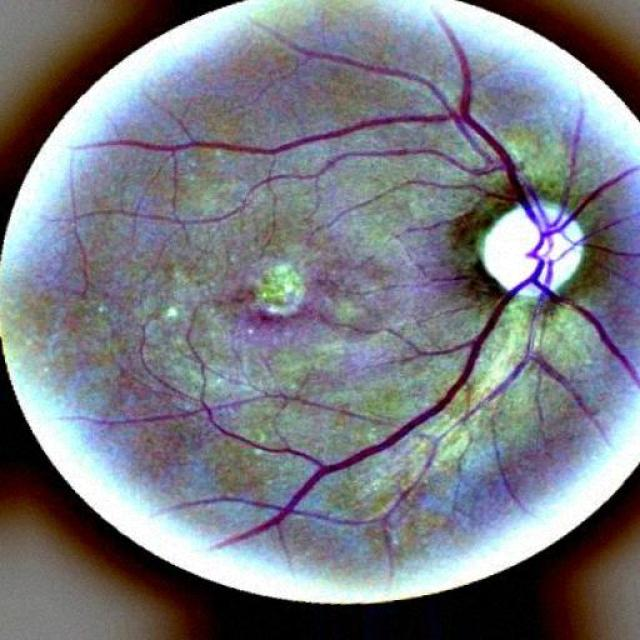Macula: (245, 262, 314, 333)
Nerves: (212, 228, 550, 540), (187, 105, 537, 217)
Optic Disk: (484, 196, 584, 302)
